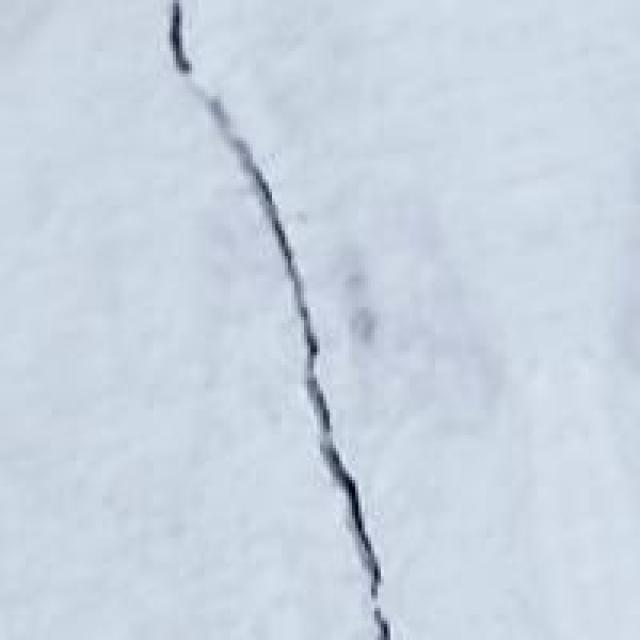Crack: (106, 0, 444, 637)
